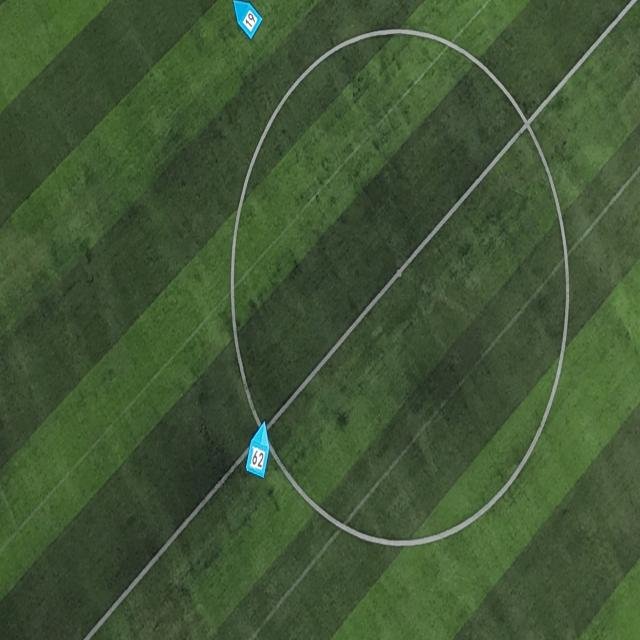board: (245, 420, 270, 479)
